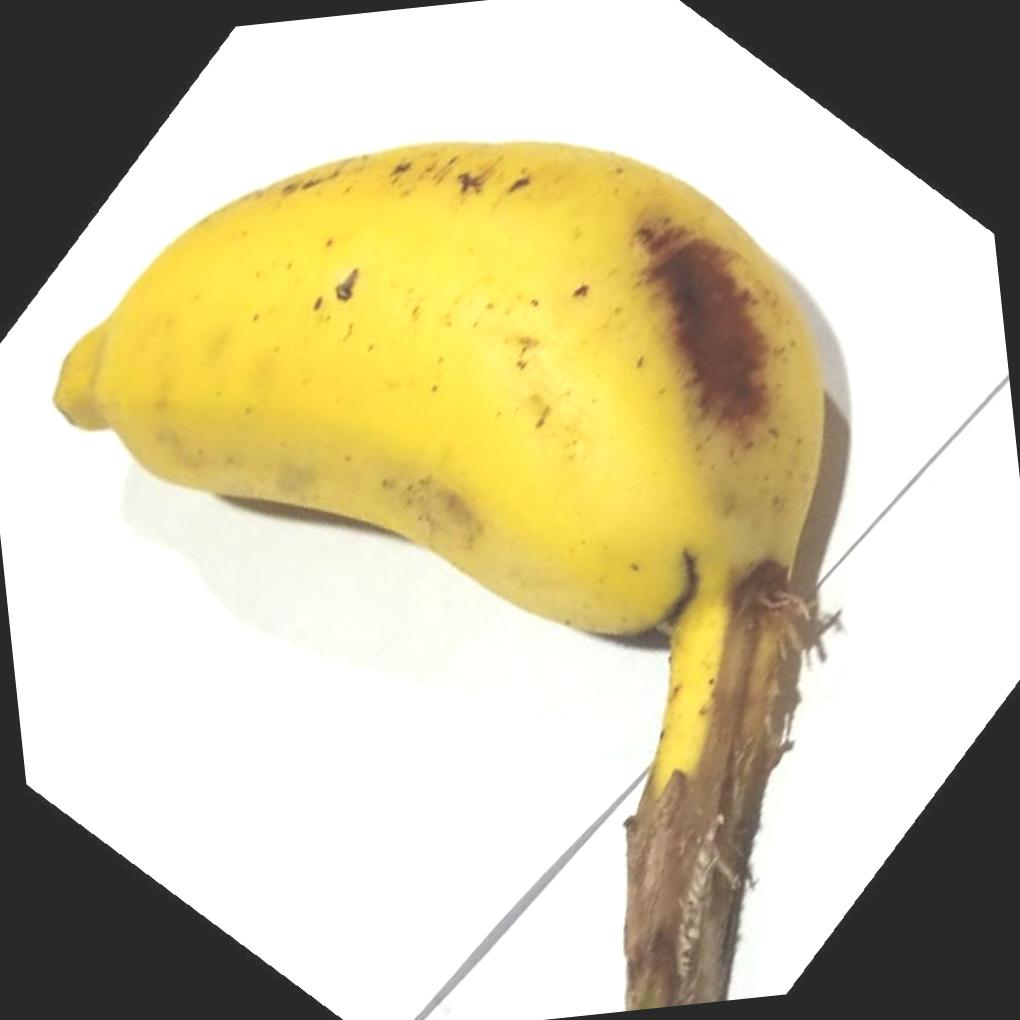Banana Ripe: (25, 88, 928, 1020)
